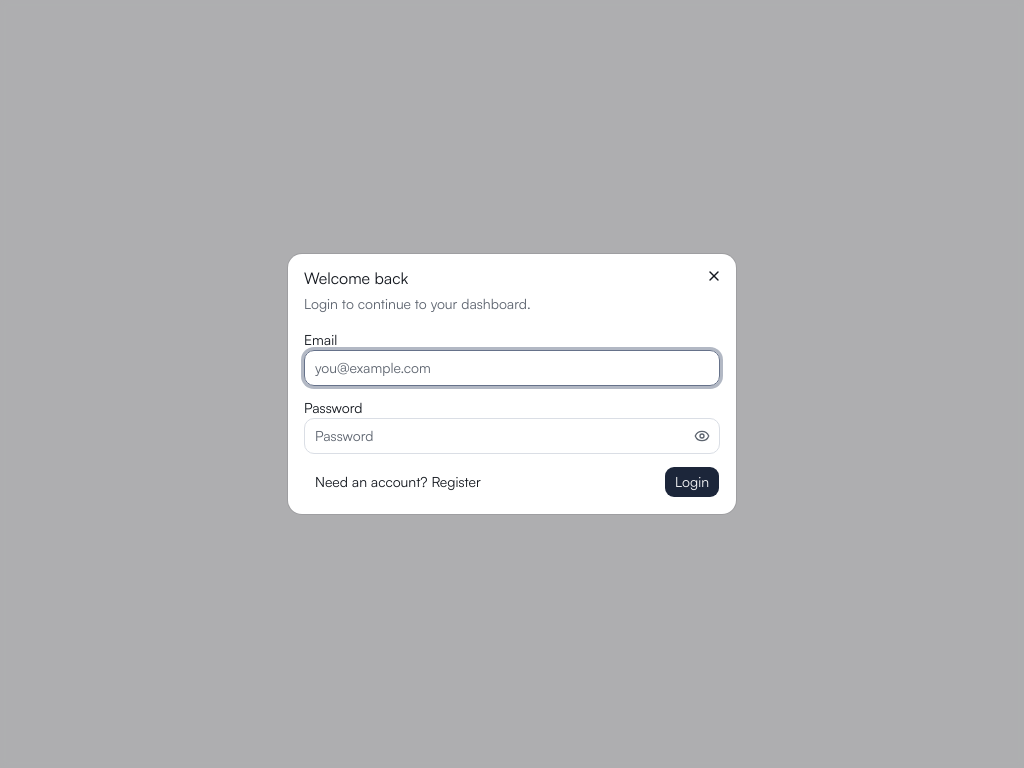
Scenario: AuthDialog › toggles password visibility on login
Type "secret-pass" into the password field labelled "Password" at {"x": 512, "y": 436}, box [304,418,720,454]
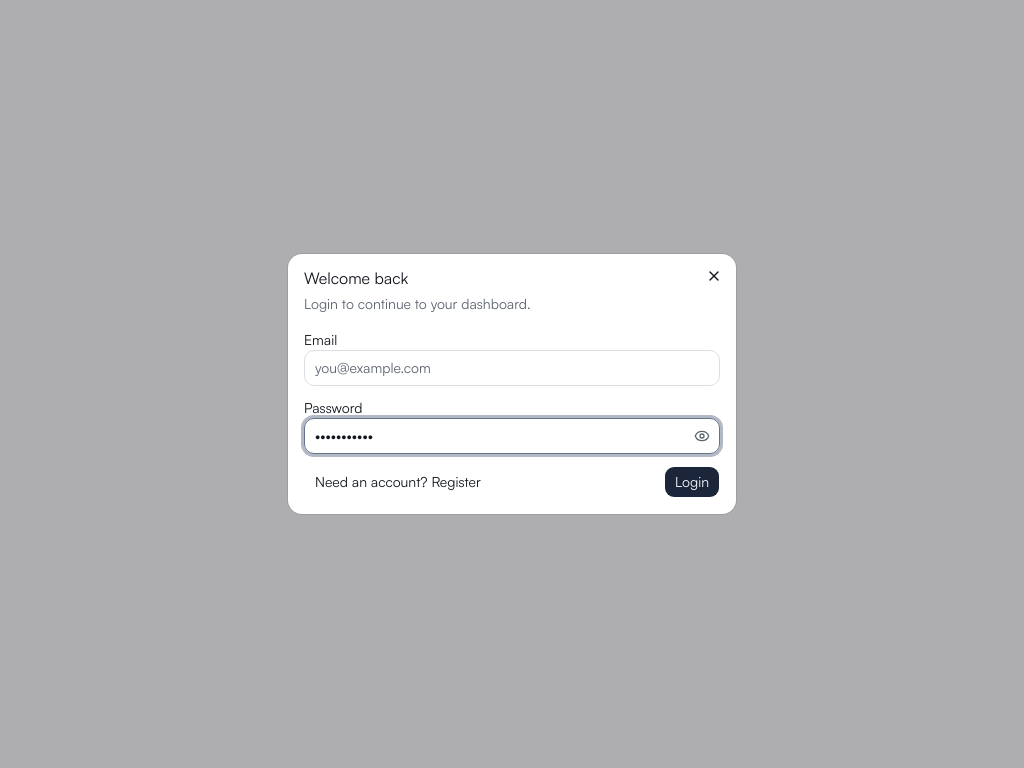
Click the button named "Show password" at {"x": 702, "y": 436}, box [684,418,720,454]
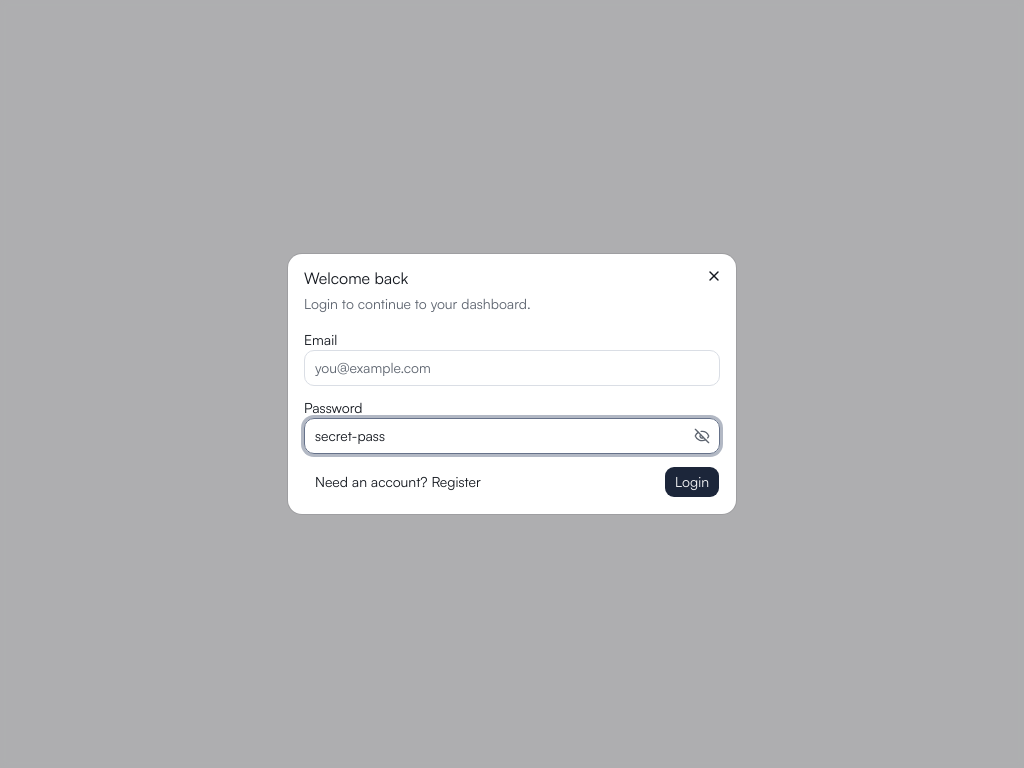
Expected: the field labelled "Password" shows its text, [304,418,720,454]
